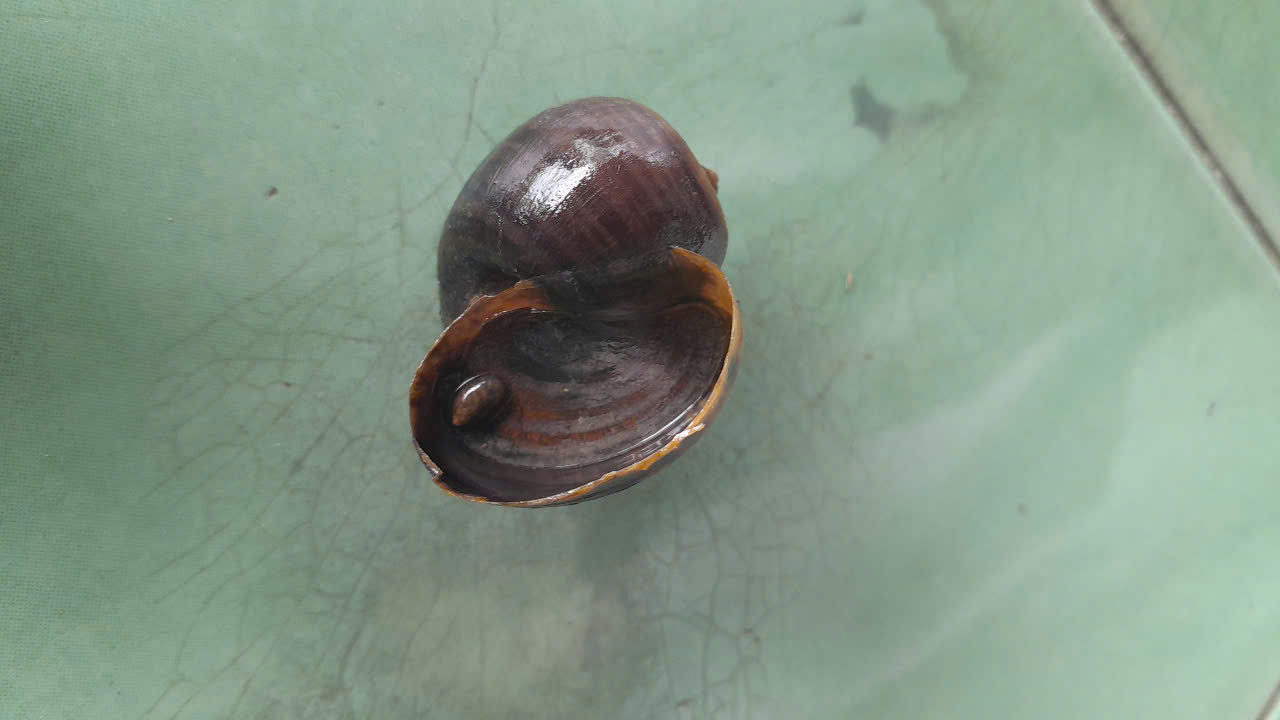oc_buou_vang: (411, 79, 771, 517)
